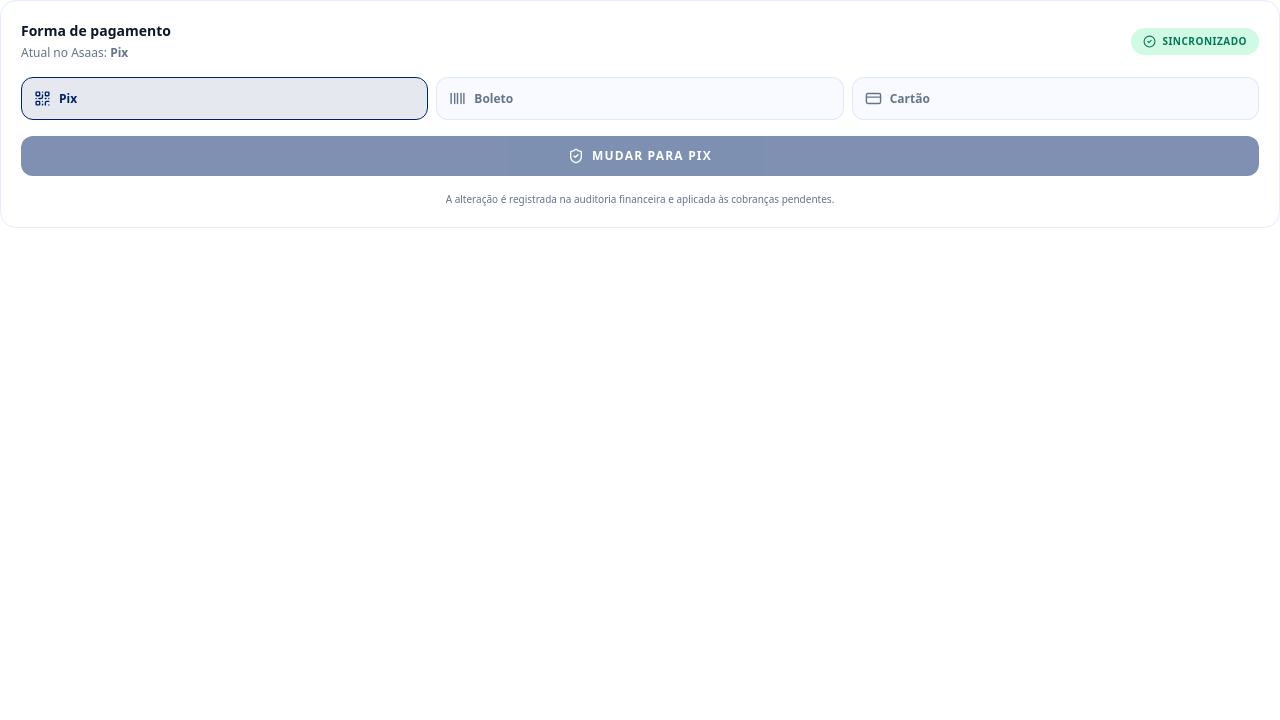
it: <BillingMethodManager /> › não cobra agora quando o aluno está em dia
The image size is (1280, 720).
Expected: the text "Atual no Asaas: Pix" is shown, [21,44,128,61]
Click the button "Cartão" at coordinates (910, 98), box [852,77,1259,120]
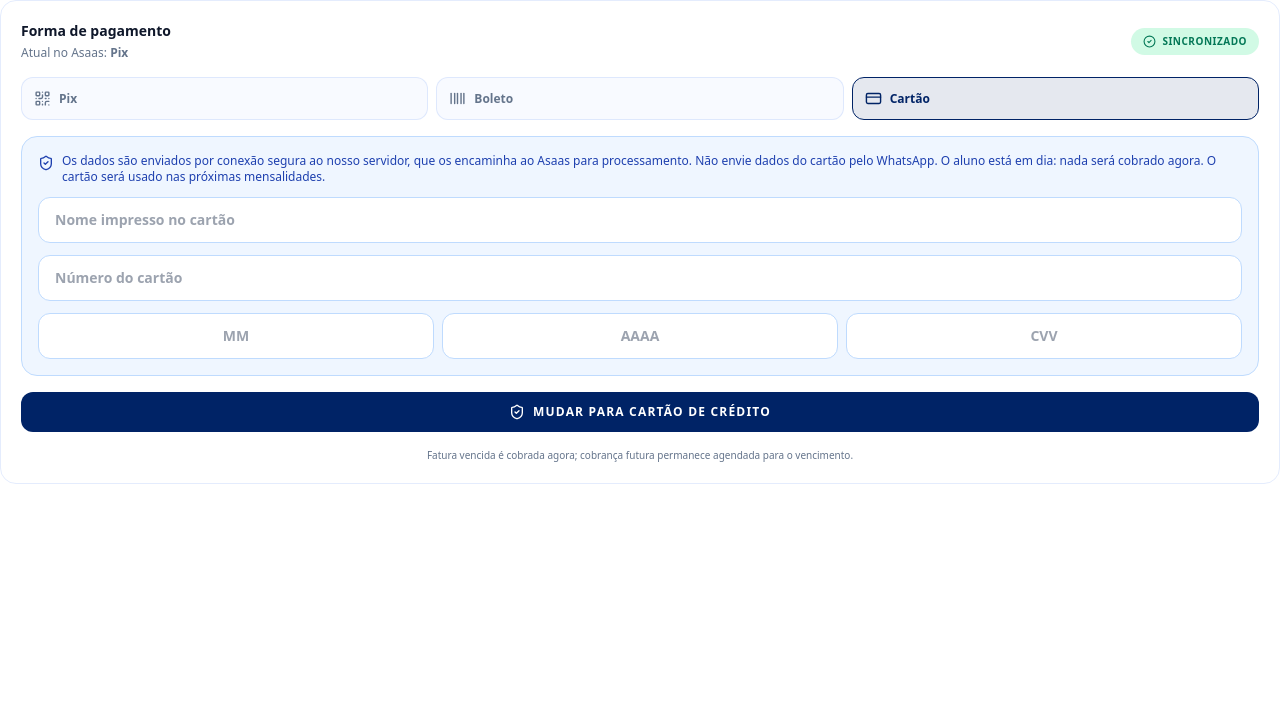
Expected: the text "O aluno está em dia: nada será cobrado agora" is shown, [62,152,1216,185]
Type "Aluno Teste" into the field with placeholder "Nome impresso no cartão" at coordinates (640, 220), box [38,197,1242,243]
Type "4111111111111111" into the field with placeholder "Número do cartão" at coordinates (640, 278), box [38,255,1242,301]
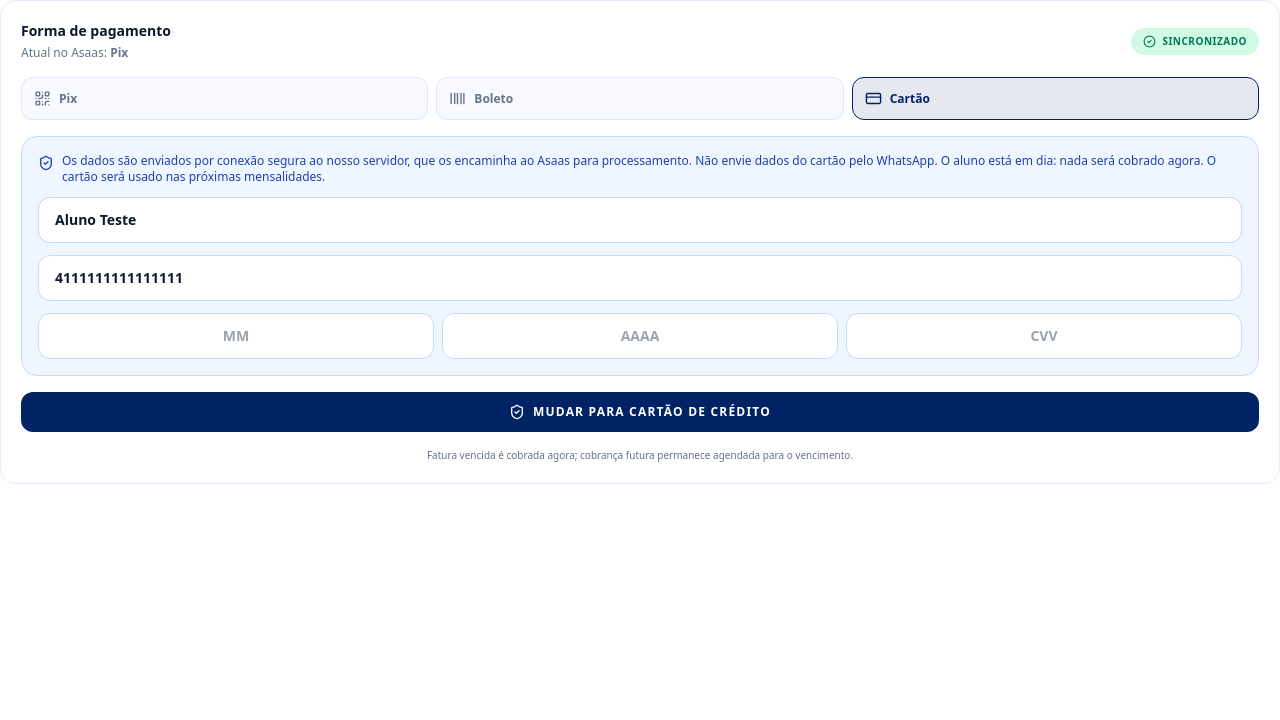
Type "12" into the field with placeholder "MM" at coordinates (236, 336), box [38,313,434,359]
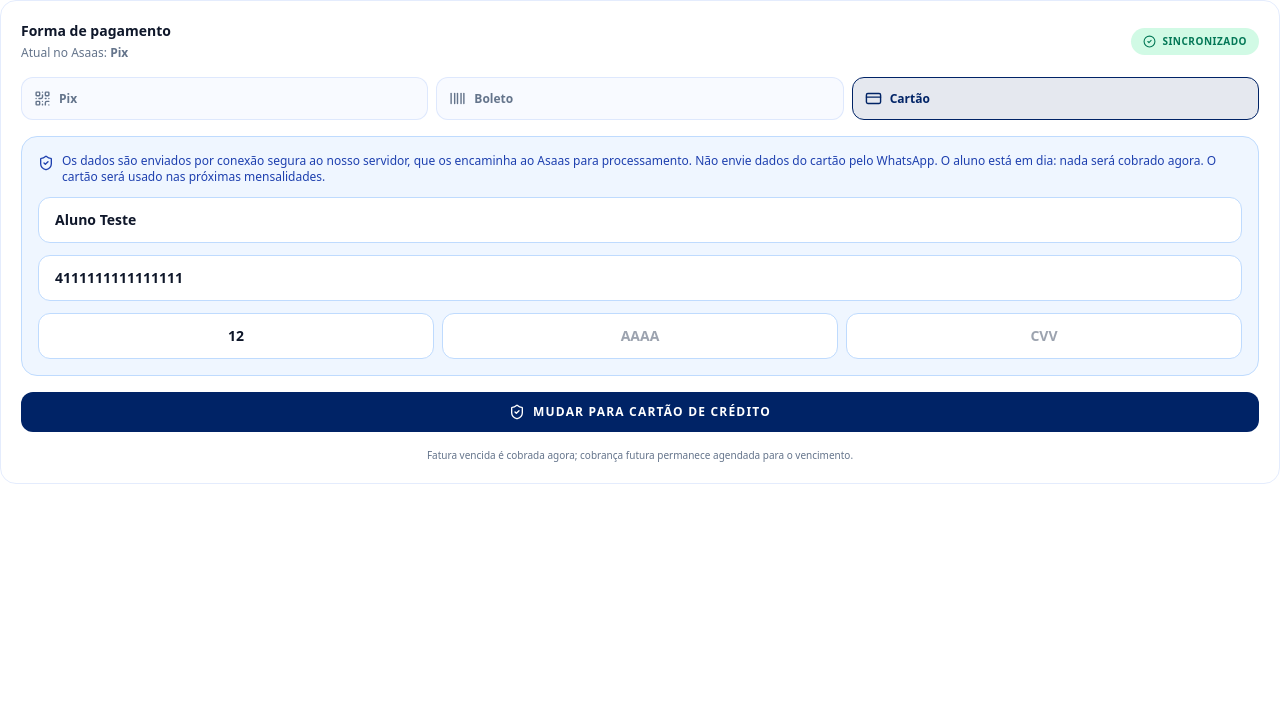
Type "2030" into the field with placeholder "AAAA" at coordinates (640, 336), box [442,313,838,359]
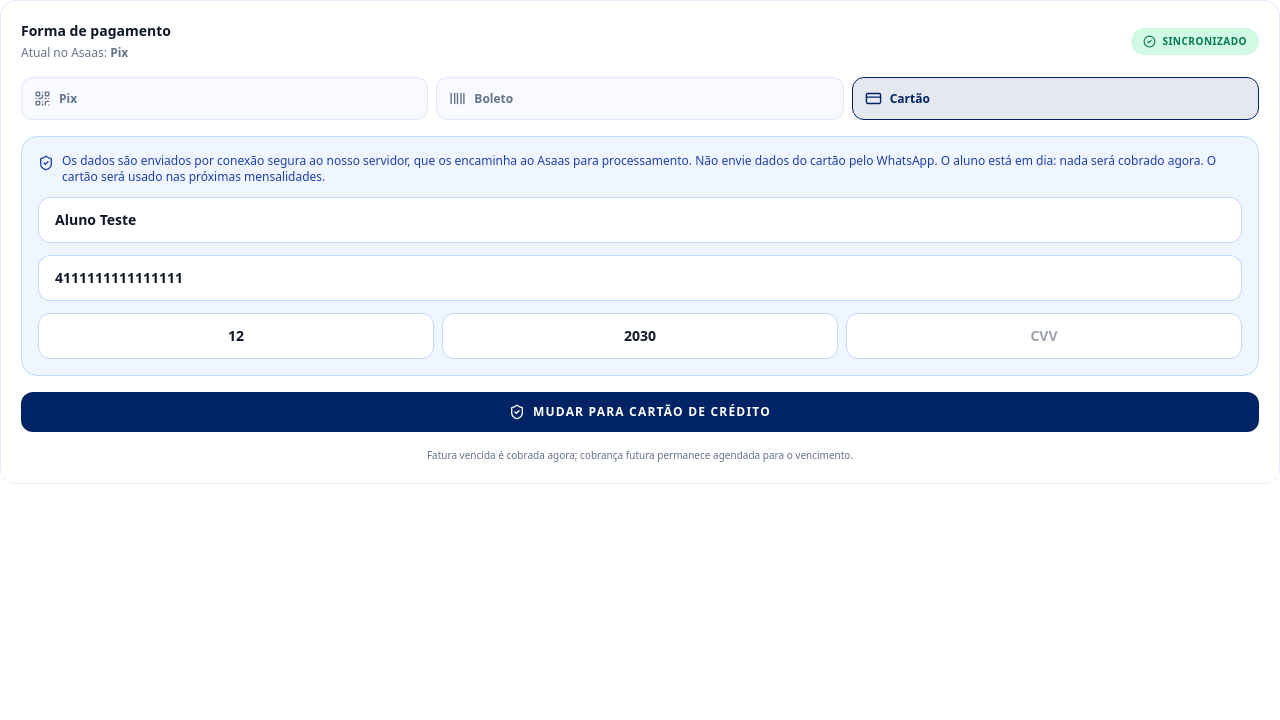
Type "123" into the password field with placeholder "CVV" at coordinates (1044, 336), box [846,313,1242,359]
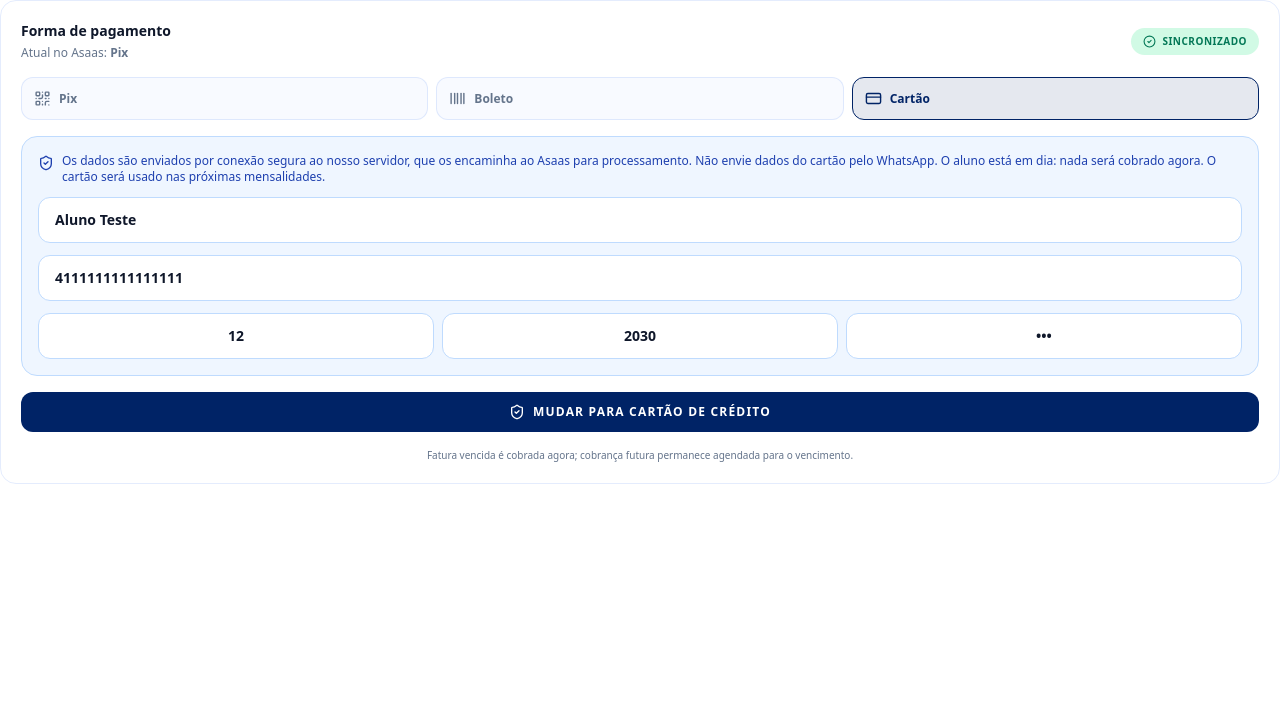
Click the button "Mudar para Cartão de crédito" at coordinates (640, 412), box [21,392,1259,432]
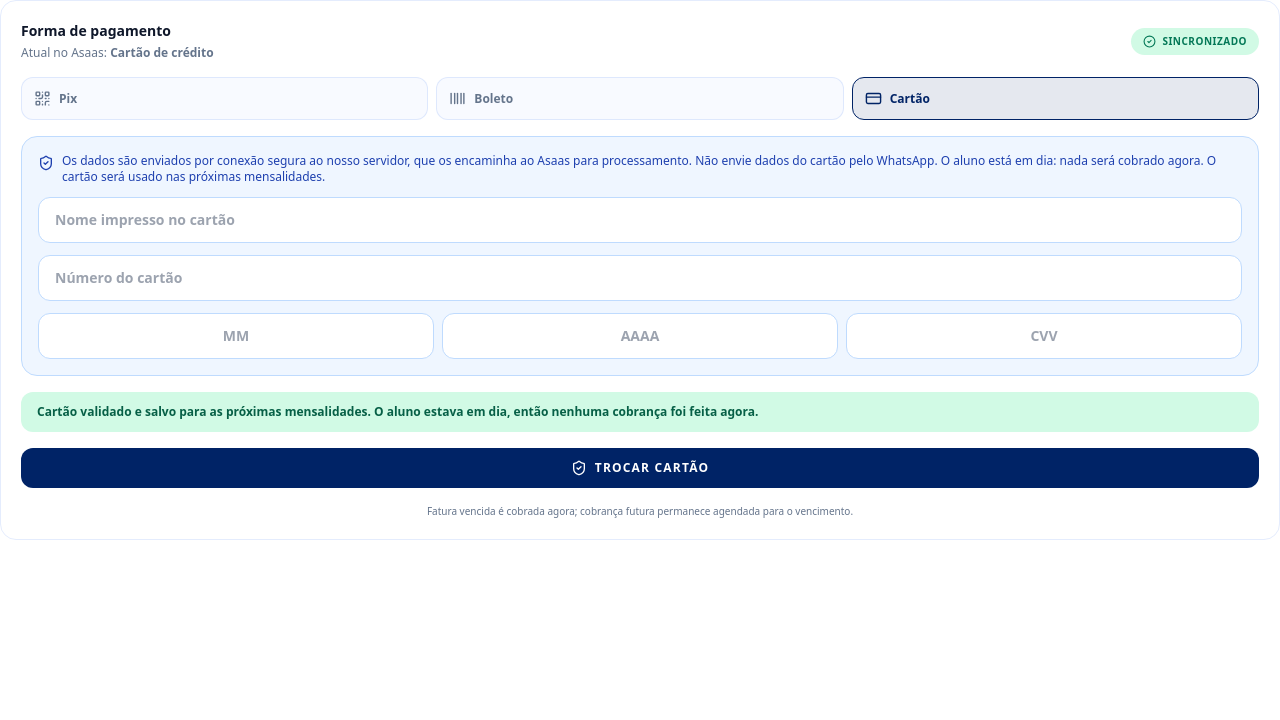
Expected: the text "nenhuma cobrança foi feita agora" is shown, [37,403,758,420]
